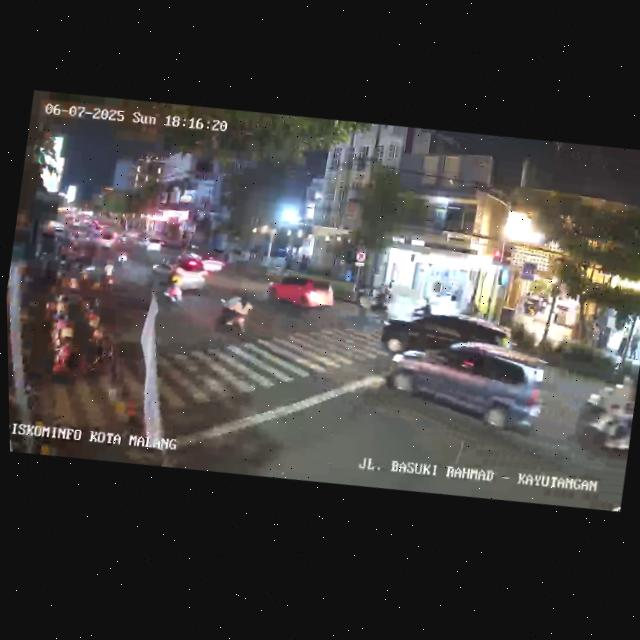car: (379, 326, 555, 449), (376, 298, 518, 372), (263, 265, 339, 322), (157, 249, 214, 299), (178, 245, 229, 282), (139, 235, 165, 254)
motorcycle: (570, 379, 639, 466), (211, 286, 255, 342), (158, 269, 188, 310), (96, 258, 119, 295), (408, 292, 434, 321), (115, 247, 131, 270)
person: (615, 324, 631, 360), (628, 330, 640, 361)
